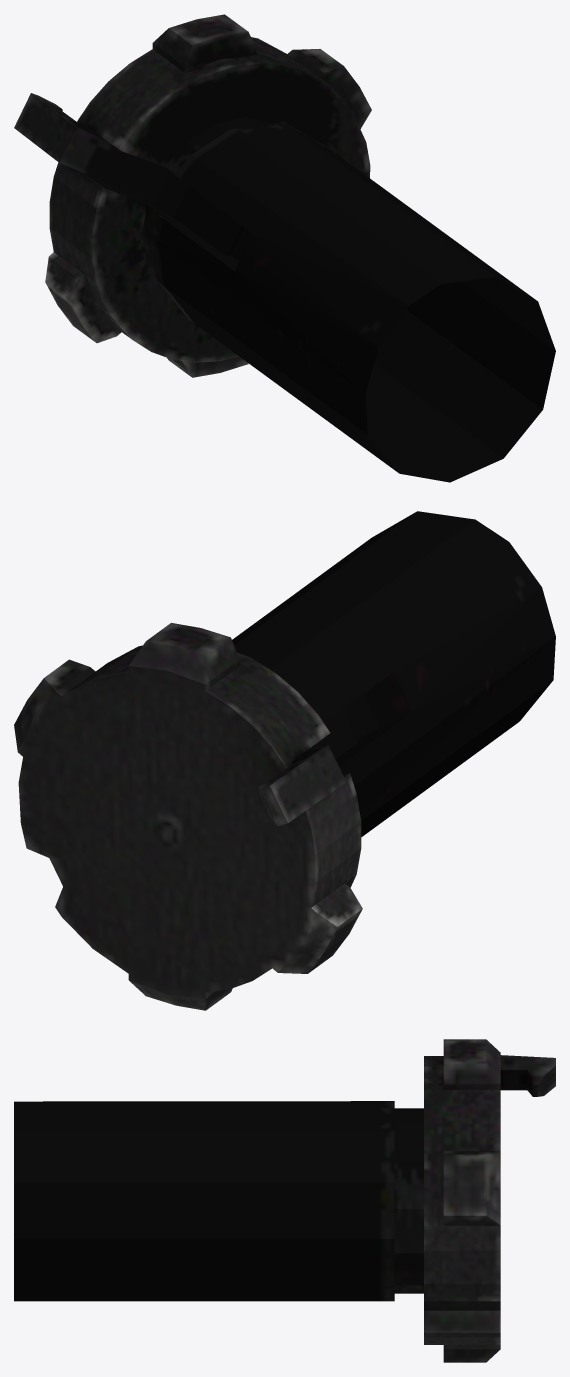
3 views of the same model, one above another, from view 1: azimuth 30°, elevation 25°; view 2: azimuth 150°, elevation 25°; view 3: azimuth 270°, elevation 25° (orthographic). The views are drawn at different scales.
Parts seen in each view (by area): view 1: TW_5e848cc2988a8701445df1e8_PZ_Import; view 2: TW_5e848cc2988a8701445df1e8_PZ_Import; view 3: TW_5e848cc2988a8701445df1e8_PZ_Import.
Boxes of the visible parts, <box> form: TW_5e848cc2988a8701445df1e8_PZ_Import: <box>14,14,555,482</box>; TW_5e848cc2988a8701445df1e8_PZ_Import: <box>14,511,555,1010</box>; TW_5e848cc2988a8701445df1e8_PZ_Import: <box>14,1039,555,1362</box>.
Size of the model in its own units: 0.0192 by 0.033 by 0.0203.
Materials: 1 (1 with a texture image).
